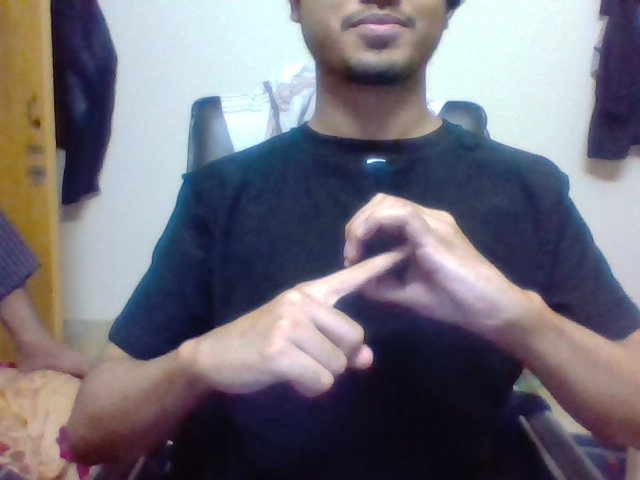Q: (350, 214, 424, 305)
